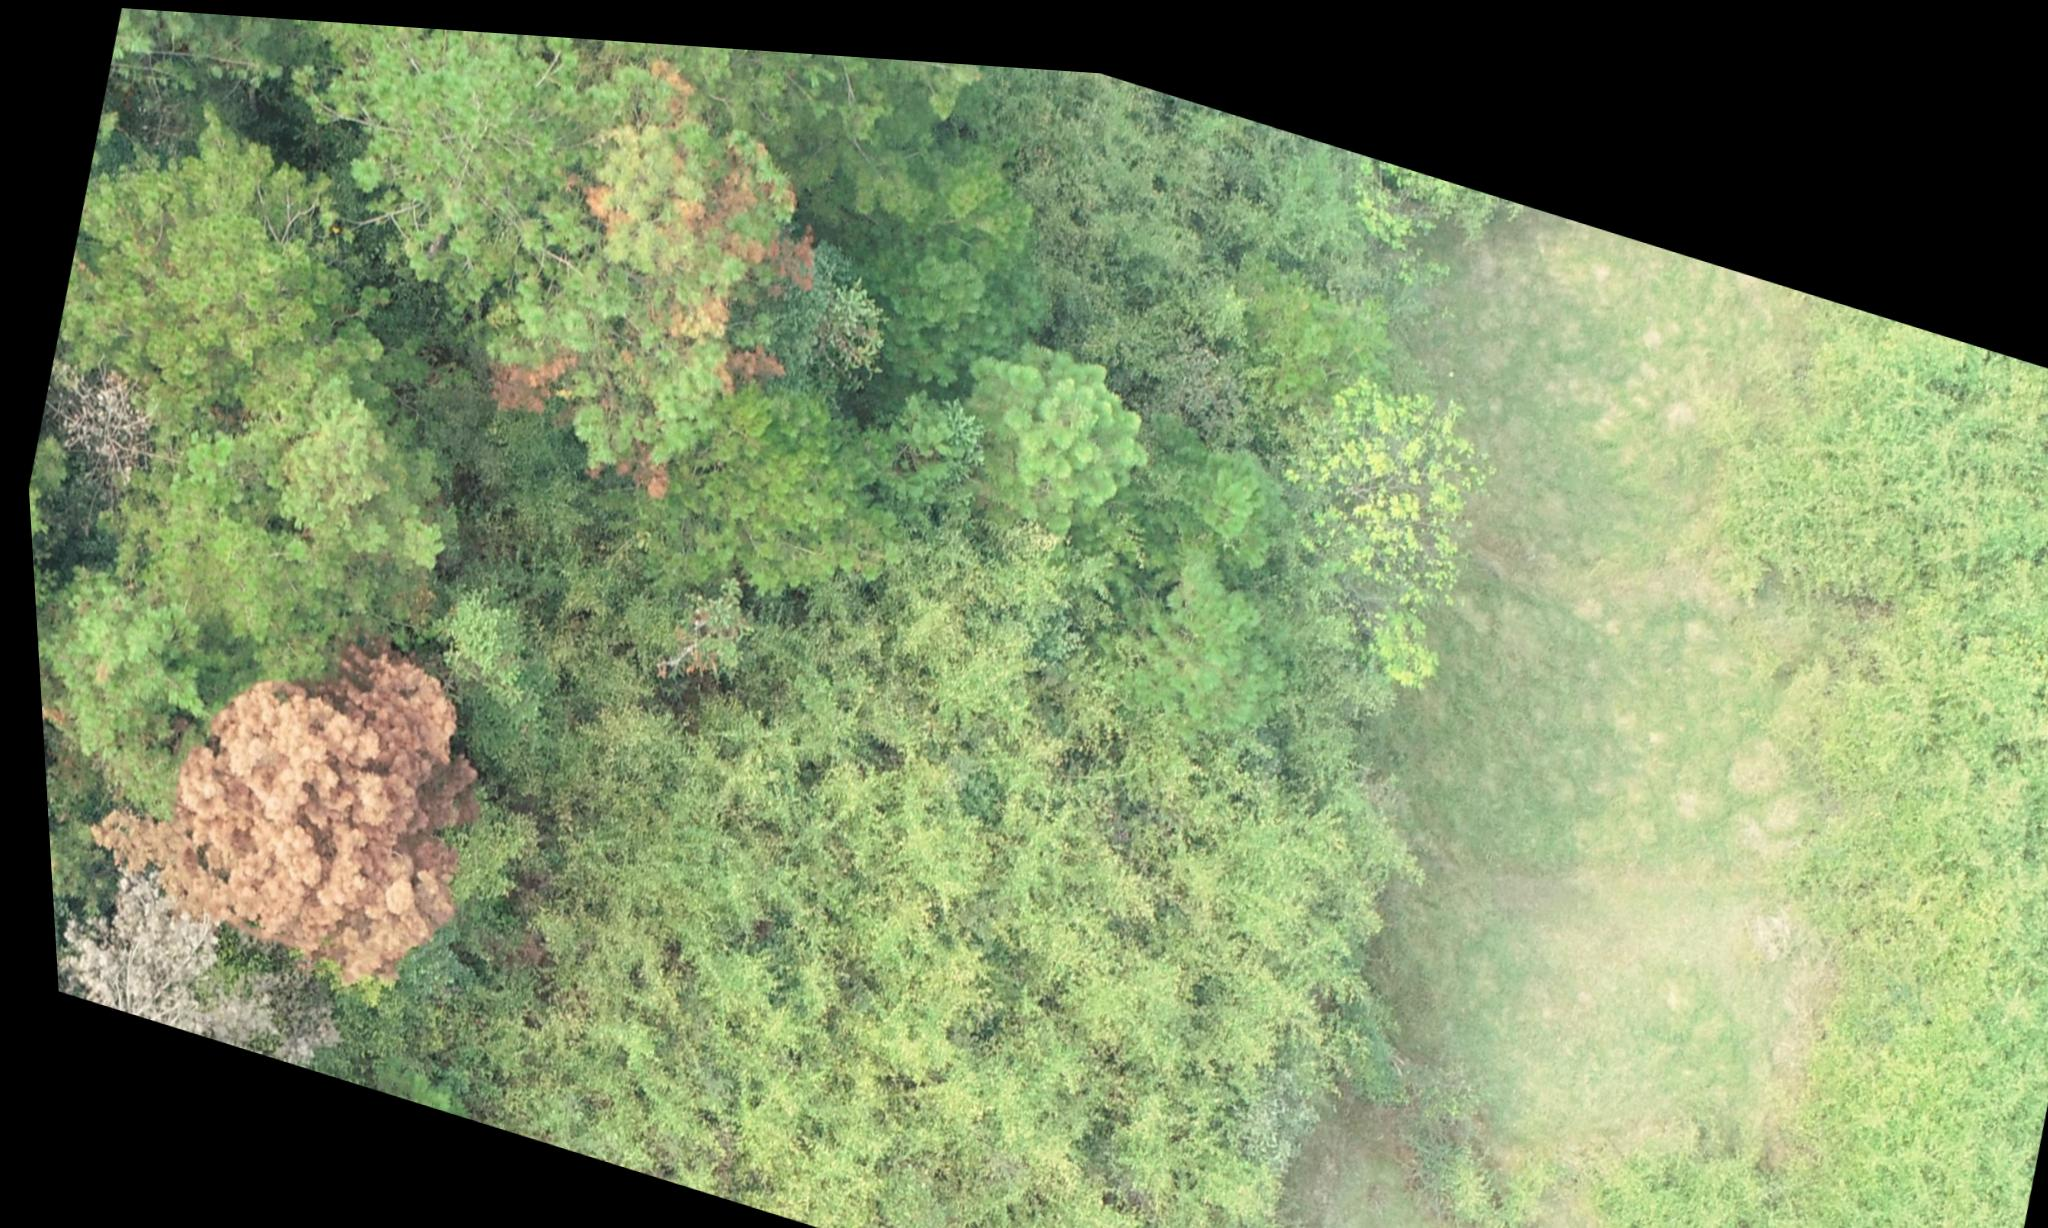dead: (42, 911, 314, 1060)
heavy: (58, 561, 522, 1010)
light: (449, 23, 861, 535)
